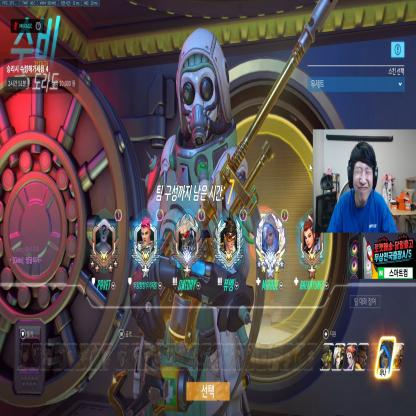streamer: (327, 142, 398, 233)
